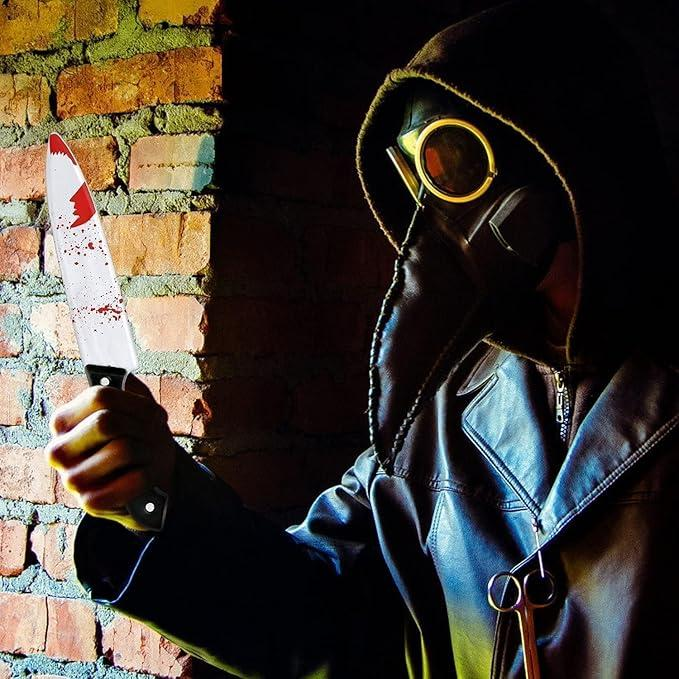Knife: (74, 14, 679, 679), (44, 130, 141, 375), (48, 382, 175, 535)
